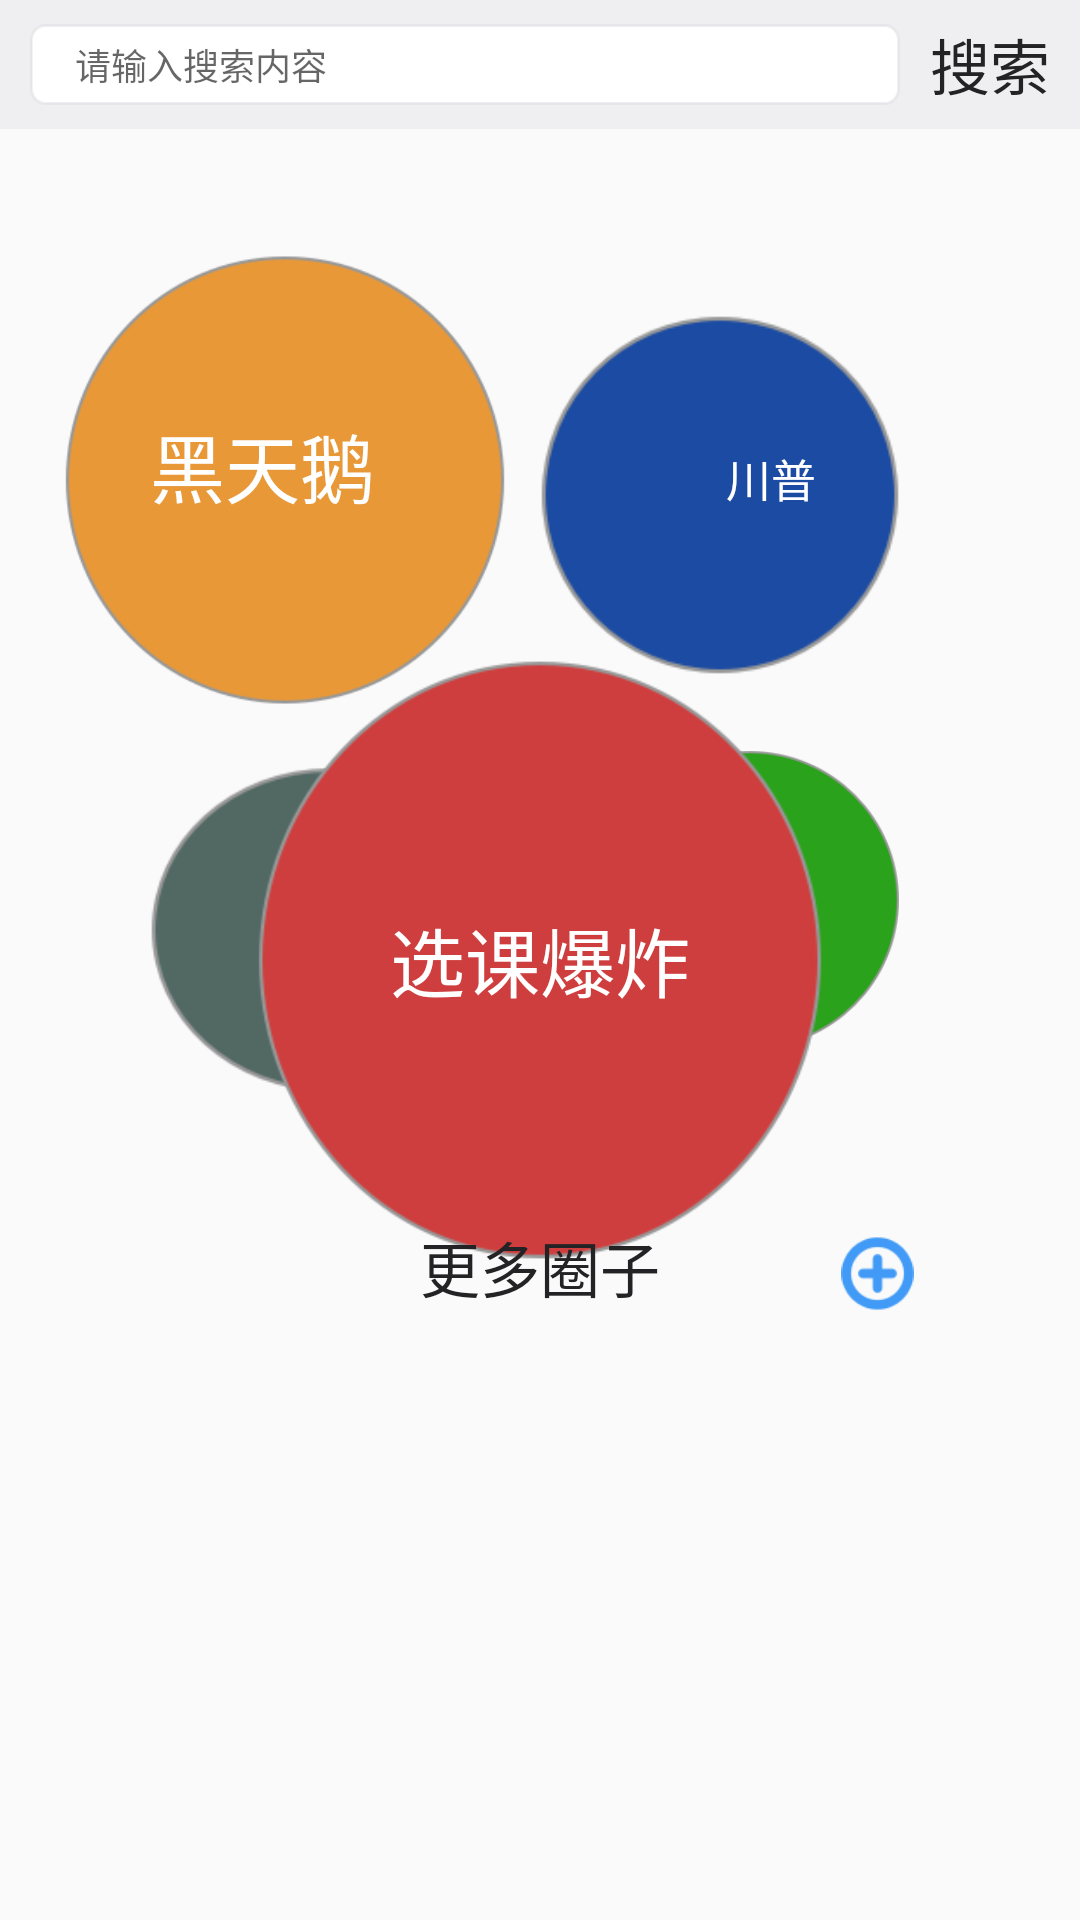

Named icons in this screenshot (1080*1920) and their bounding boxes, (x1, y1, x2, y2):
plus: (841, 1237, 914, 1310)
